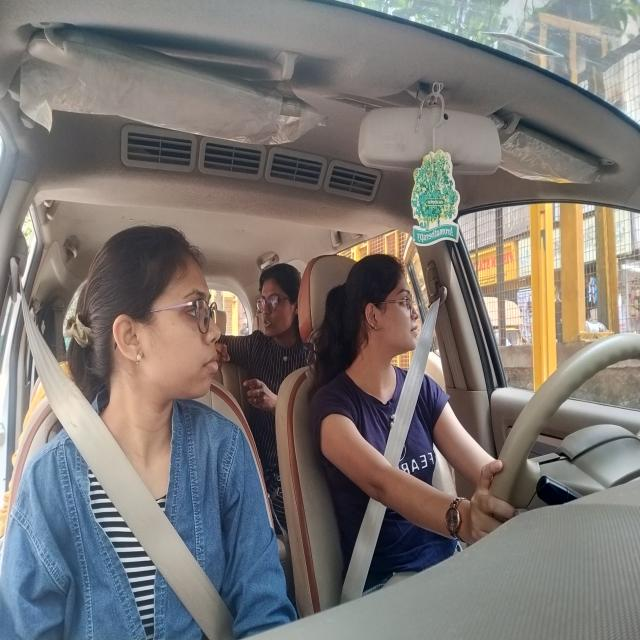LeftRight: (330, 242, 440, 417)
person: (70, 216, 238, 465), (249, 250, 304, 372)
